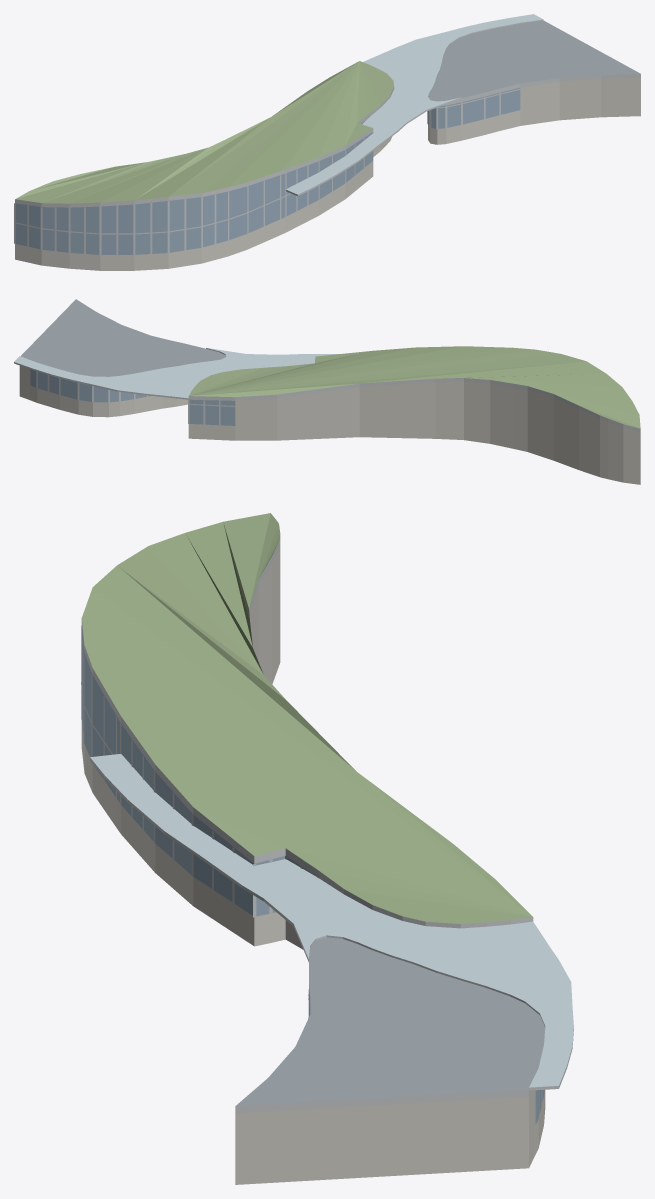
Rendered from nyc-bbg-visitor-center.glb.
The picture shows the model from 3 angles, top to bottom: view 1: azimuth 30°, elevation 25°; view 2: azimuth 150°, elevation 25°; view 3: azimuth 270°, elevation 25°; orthographic projection. The views are drawn at different scales.
Parts seen in each view (by area): view 1: Steinberg Visitor Center, Brooklyn Botanic Garden; view 2: Steinberg Visitor Center, Brooklyn Botanic Garden; view 3: Steinberg Visitor Center, Brooklyn Botanic Garden.
Part boxes in pixels (x1=…): Steinberg Visitor Center, Brooklyn Botanic Garden: x1=14, y1=14, x2=640, y2=270; Steinberg Visitor Center, Brooklyn Botanic Garden: x1=14, y1=299, x2=640, y2=484; Steinberg Visitor Center, Brooklyn Botanic Garden: x1=81, y1=513, x2=573, y2=1184.
Bounding box in the file's own units: 97.52 × 10.88 × 36.26.
